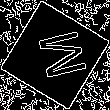M_W: (25, 27, 85, 83)
